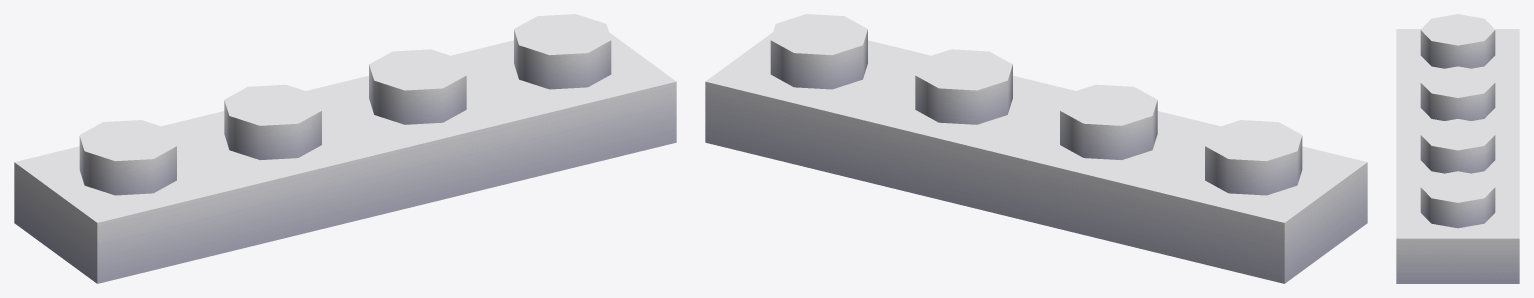
Rendered from round-lq-plate-1x4.glb.
The picture shows the model from 3 angles, left to right: view 1: azimuth 30°, elevation 25°; view 2: azimuth 150°, elevation 25°; view 3: azimuth 270°, elevation 25°; orthographic projection. The views are drawn at different scales.
Parts seen in each view (by area): view 1: round-lq-plate-1x4; view 2: round-lq-plate-1x4; view 3: round-lq-plate-1x4.
Part boxes in pixels (left/top/right/bottom): round-lq-plate-1x4: left=14, top=14, right=676, bottom=283; round-lq-plate-1x4: left=705, top=14, right=1367, bottom=283; round-lq-plate-1x4: left=1396, top=14, right=1519, bottom=283.
Bounding box in the file's own units: 0.318 × 0.05 × 0.079.
Materials: 1 (1 with a texture image).
